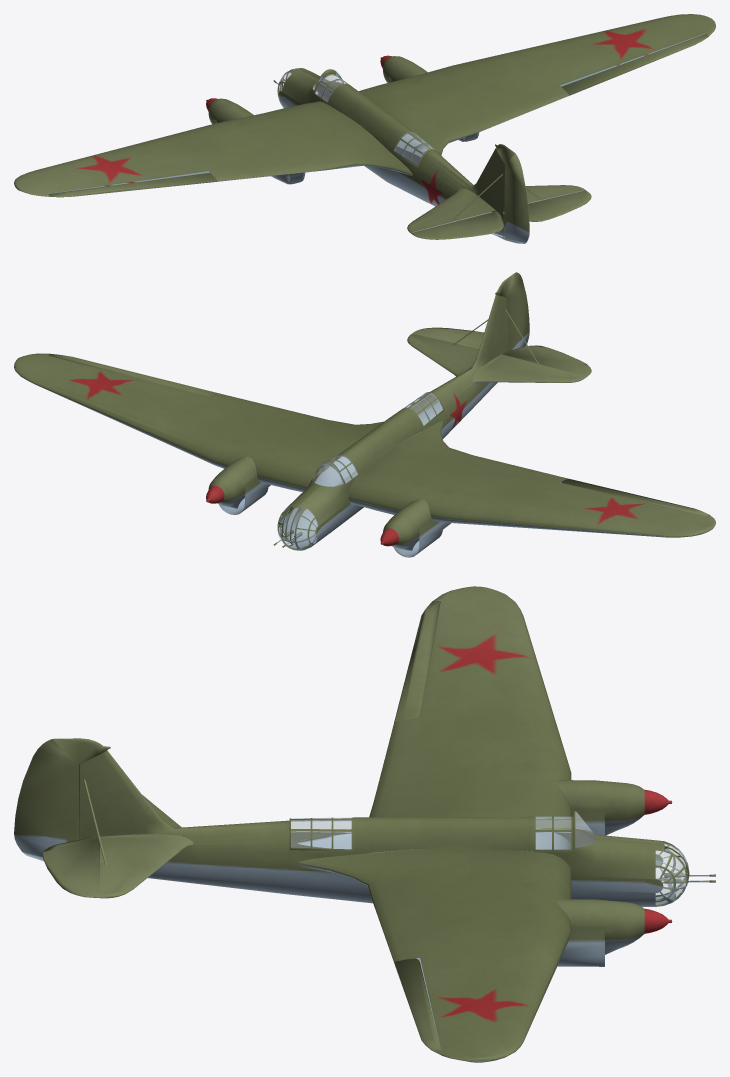
The picture shows the model from 3 angles, top to bottom: view 1: azimuth 30°, elevation 25°; view 2: azimuth 150°, elevation 25°; view 3: azimuth 270°, elevation 25°; orthographic projection. The views are drawn at different scales.
Visible parts, largest first — view 1: ailes; view 2: ailes; view 3: ailes.
Part boxes in pixels (bbox=[...]): ailes: bbox=[14, 14, 715, 243]; ailes: bbox=[14, 272, 715, 557]; ailes: bbox=[14, 586, 715, 1062].
Bounding box in the file's own units: 18.3 × 3 × 11.46.
2 materials, 1 textured.
